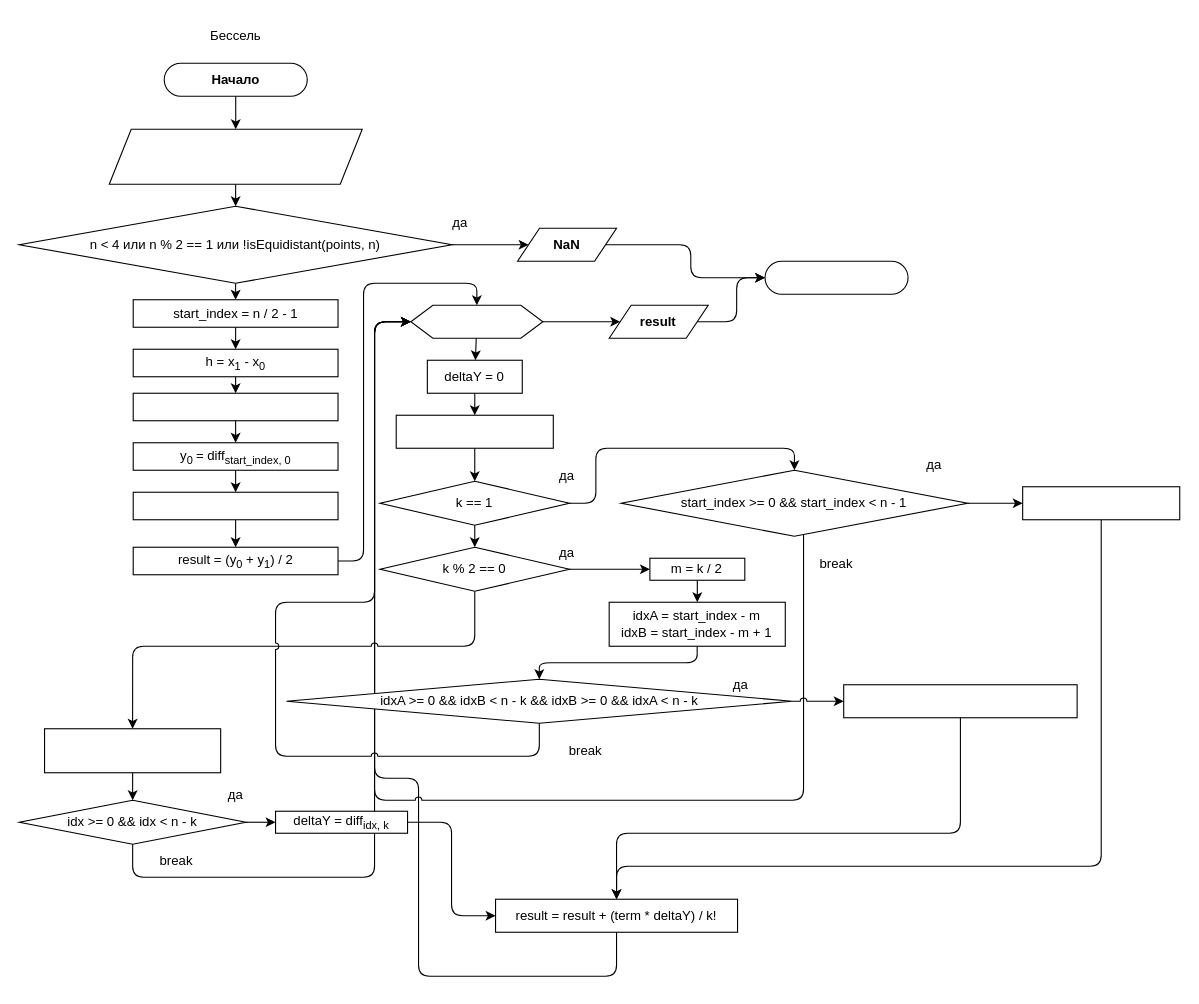
This 1199x1004 diagram has some shape labels left out. The centre of each missing label's shape, as x and y in pixels:
"deltaY = (diff idxA, k + diff idxB, k ) / 2" belongs at point 960,701.
"deltaY = diff start_index, 1" belongs at point 1101,503.
"k от 1 до n - 1" belongs at point 476,321.
"m = (k - 1) / 2 idx = start_index - m" belongs at point 132,750.
"points[] {x, y}, n, diff[][], x" belongs at point 235,156.
"t = (x - x start_index ) / h" belongs at point 235,406.
"term = besselTerm(t, k)" belongs at point 474,431.
"y 0 = diff start_index + 1, 0" belongs at point 235,505.
"Конец" belongs at point 836,277.
